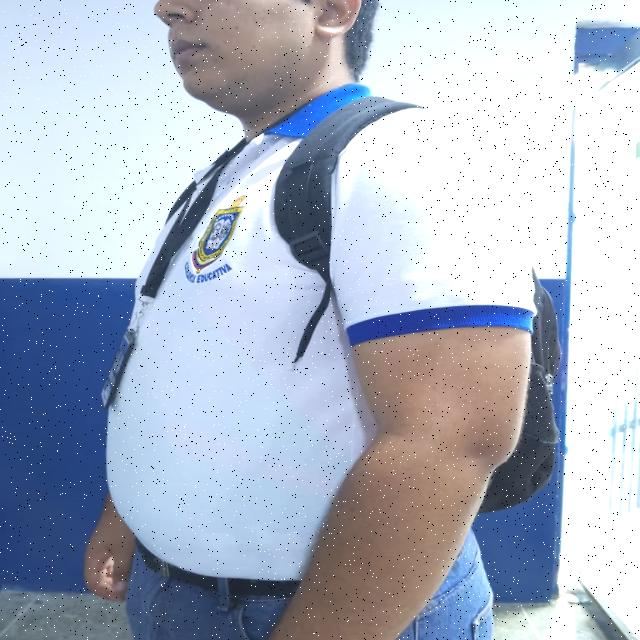carnet: (103, 334, 130, 403)
uniforme_superior: (105, 82, 536, 581)
